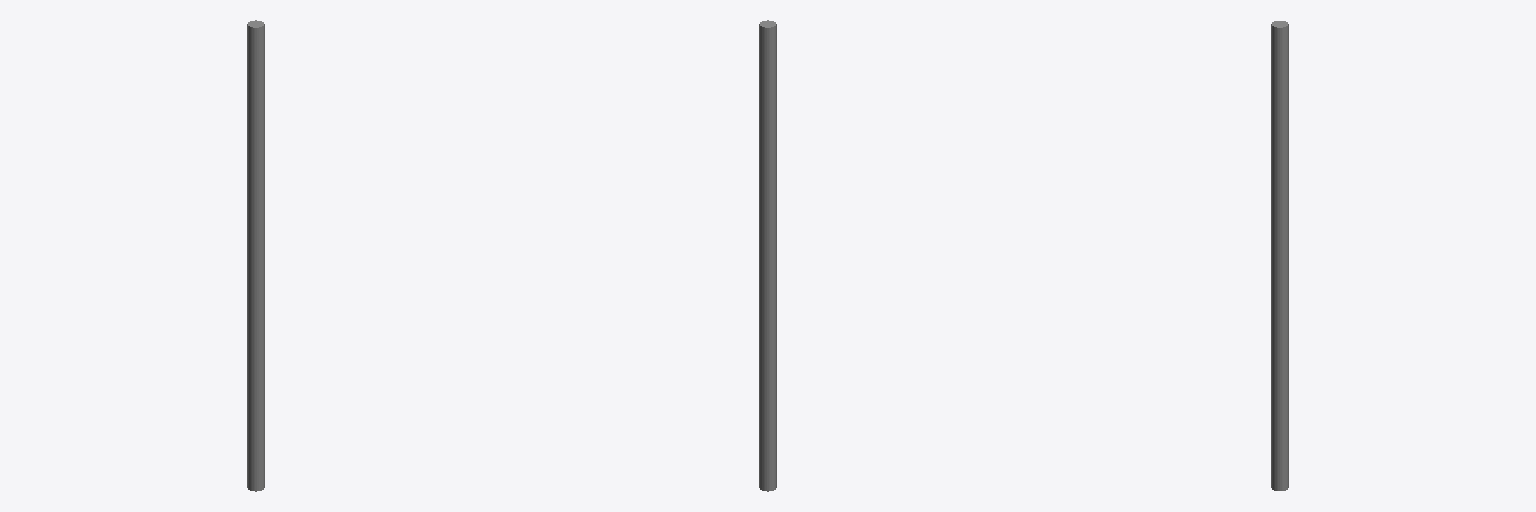
The robot description file, URDF, robot "multi_link_chain":
<?xml version="1.0"?>
<robot name="multi_link_chain">
  <link name="link_0">
    <visual>
      <origin xyz="0 0 0.15" rpy="0 0 0" />
      <geometry>
        <cylinder radius="0.03" length="0.3" />
      </geometry>
      <material name="gray"><color rgba="0.6 0.6 0.6 1" /></material>
    </visual>
    <inertial>
      <origin xyz="0 0 0.15" rpy="0 0 0" />
      <mass value="0.1" />
      <inertia ixx="0.001" ixy="0" ixz="0" iyy="0.001" iyz="0" izz="0.0001" />
    </inertial>
  </link>
  <link name="link_1">
    <visual>
      <origin xyz="0 0 0.15" rpy="0 0 0" />
      <geometry>
        <cylinder radius="0.03" length="0.3" />
      </geometry>
      <material name="gray"><color rgba="0.6 0.6 0.6 1" /></material>
    </visual>
    <inertial>
      <origin xyz="0 0 0.15" rpy="0 0 0" />
      <mass value="0.1" />
      <inertia ixx="0.001" ixy="0" ixz="0" iyy="0.001" iyz="0" izz="0.0001" />
    </inertial>
  </link>
  <link name="link_2">
    <visual>
      <origin xyz="0 0 0.15" rpy="0 0 0" />
      <geometry>
        <cylinder radius="0.03" length="0.3" />
      </geometry>
      <material name="gray"><color rgba="0.6 0.6 0.6 1" /></material>
    </visual>
    <inertial>
      <origin xyz="0 0 0.15" rpy="0 0 0" />
      <mass value="0.1" />
      <inertia ixx="0.001" ixy="0" ixz="0" iyy="0.001" iyz="0" izz="0.0001" />
    </inertial>
  </link>
  <link name="link_3">
    <visual>
      <origin xyz="0 0 0.15" rpy="0 0 0" />
      <geometry>
        <cylinder radius="0.03" length="0.3" />
      </geometry>
      <material name="gray"><color rgba="0.6 0.6 0.6 1" /></material>
    </visual>
    <inertial>
      <origin xyz="0 0 0.15" rpy="0 0 0" />
      <mass value="0.1" />
      <inertia ixx="0.001" ixy="0" ixz="0" iyy="0.001" iyz="0" izz="0.0001" />
    </inertial>
  </link>
  <link name="link_4">
    <visual>
      <origin xyz="0 0 0.15" rpy="0 0 0" />
      <geometry>
        <cylinder radius="0.03" length="0.3" />
      </geometry>
      <material name="gray"><color rgba="0.6 0.6 0.6 1" /></material>
    </visual>
    <inertial>
      <origin xyz="0 0 0.15" rpy="0 0 0" />
      <mass value="0.1" />
      <inertia ixx="0.001" ixy="0" ixz="0" iyy="0.001" iyz="0" izz="0.0001" />
    </inertial>
  </link>
  <link name="link_5">
    <visual>
      <origin xyz="0 0 0.15" rpy="0 0 0" />
      <geometry>
        <cylinder radius="0.03" length="0.3" />
      </geometry>
      <material name="gray"><color rgba="0.6 0.6 0.6 1" /></material>
    </visual>
    <inertial>
      <origin xyz="0 0 0.15" rpy="0 0 0" />
      <mass value="0.1" />
      <inertia ixx="0.001" ixy="0" ixz="0" iyy="0.001" iyz="0" izz="0.0001" />
    </inertial>
  </link>
  <joint name="joint_1" type="revolute">
    <parent link="link_0" />
    <child link="link_1" />
    <origin xyz="0 0 0.3" rpy="0 0 0" />
    <axis xyz="0 1 0" />
    <limit lower="-1.57" upper="1.57" effort="10" velocity="5" />
  </joint>
  <joint name="joint_2" type="revolute">
    <parent link="link_1" />
    <child link="link_2" />
    <origin xyz="0 0 0.3" rpy="0 0 0" />
    <axis xyz="0 1 0" />
    <limit lower="-1.57" upper="1.57" effort="10" velocity="5" />
  </joint>
  <joint name="joint_3" type="revolute">
    <parent link="link_2" />
    <child link="link_3" />
    <origin xyz="0 0 0.3" rpy="0 0 0" />
    <axis xyz="0 1 0" />
    <limit lower="-1.57" upper="1.57" effort="10" velocity="5" />
  </joint>
  <joint name="joint_4" type="revolute">
    <parent link="link_3" />
    <child link="link_4" />
    <origin xyz="0 0 0.3" rpy="0 0 0" />
    <axis xyz="0 1 0" />
    <limit lower="-1.57" upper="1.57" effort="10" velocity="5" />
  </joint>
  <joint name="joint_5" type="revolute">
    <parent link="link_4" />
    <child link="link_5" />
    <origin xyz="0 0 0.3" rpy="0 0 0" />
    <axis xyz="0 1 0" />
    <limit lower="-1.57" upper="1.57" effort="10" velocity="5" />
  </joint>
</robot>

--- Facts derived from the render (not from the file) ---
3 views of the same robot in one strip: view 1: azimuth 30°, elevation 25°; view 2: azimuth 150°, elevation 25°; view 3: azimuth 270°, elevation 25° (orthographic).
Robot: multi_link_chain — 6 links, 5 joints (5 revolute); root link link_0; default pose: every joint at zero.
Visible links, largest first — view 1: link_5, link_3, link_2, link_0, link_1, link_4; view 2: link_5, link_3, link_2, link_0, link_1, link_4; view 3: link_5, link_3, link_2, link_0, link_1, link_4.
Link boxes in pixels (bbox=[...]): link_5: bbox=[247, 20, 264, 104]; link_3: bbox=[247, 179, 264, 259]; link_2: bbox=[247, 256, 264, 336]; link_0: bbox=[247, 411, 264, 491]; link_1: bbox=[247, 333, 264, 413]; link_4: bbox=[247, 101, 264, 181]; link_5: bbox=[759, 20, 776, 104]; link_3: bbox=[759, 179, 776, 259]; link_2: bbox=[759, 256, 776, 336]; link_0: bbox=[759, 411, 776, 491]; link_1: bbox=[759, 333, 776, 413]; link_4: bbox=[759, 101, 776, 181]; link_5: bbox=[1271, 21, 1288, 104]; link_3: bbox=[1271, 179, 1288, 259]; link_2: bbox=[1271, 256, 1288, 336]; link_0: bbox=[1271, 411, 1288, 490]; link_1: bbox=[1271, 333, 1288, 413]; link_4: bbox=[1271, 102, 1288, 181].
Size in the robot's own frame: 0.06 by 0.06 by 1.8 metres.
Geometry: primitives only (box / cylinder / sphere), no mesh files.
